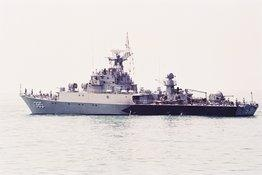warship: (19, 34, 260, 116)
